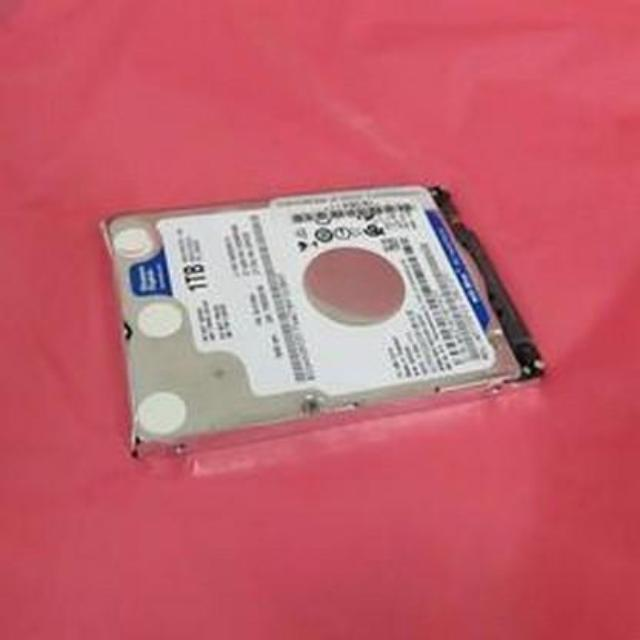DISK: (95, 181, 552, 456)
